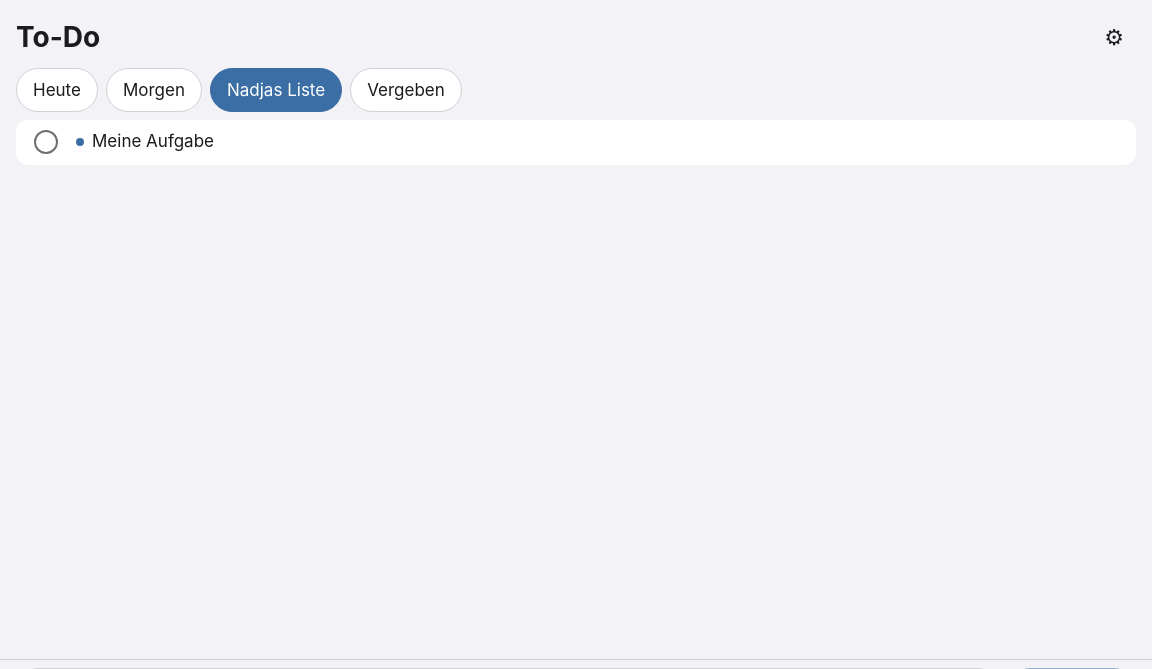
Test: App with two people › shows the handed-over task as belonging to the other person
What coordinates should you click on to do the following:
click the tab "Vergeben"
I would click on:
 (406, 90)
Its box is [350,68,462,112].
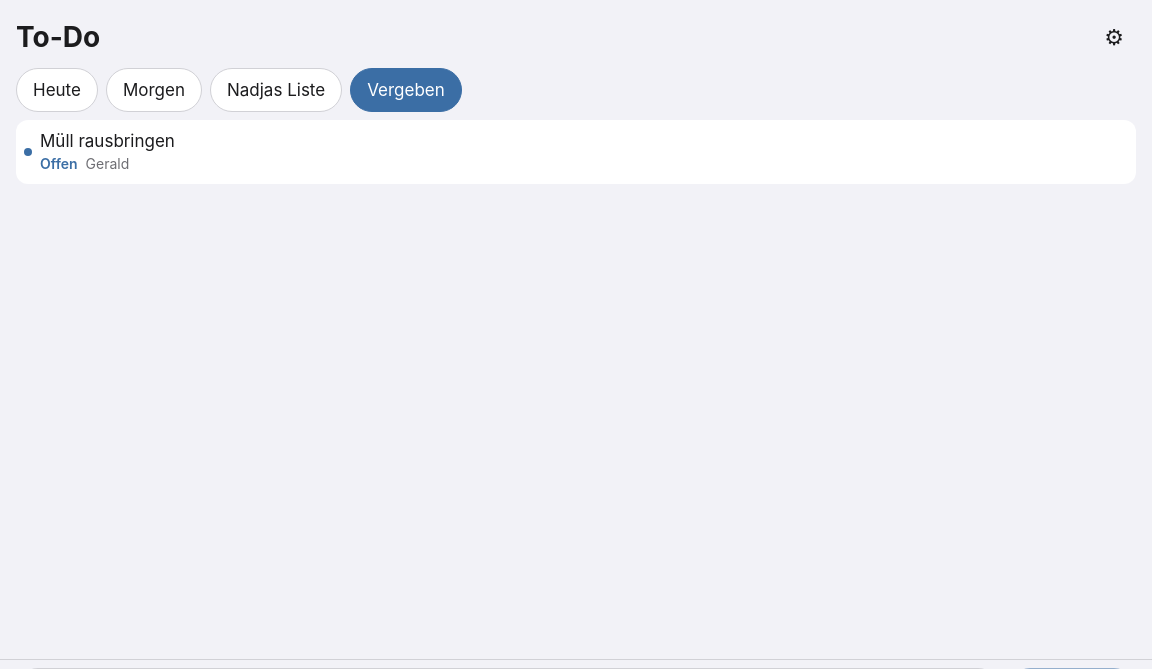
What coordinates should you click on to do the following:
click the button "Müll rausbringen Offen Gerald"
I would click on:
 (107, 141)
Its box is [40,120,1136,184].
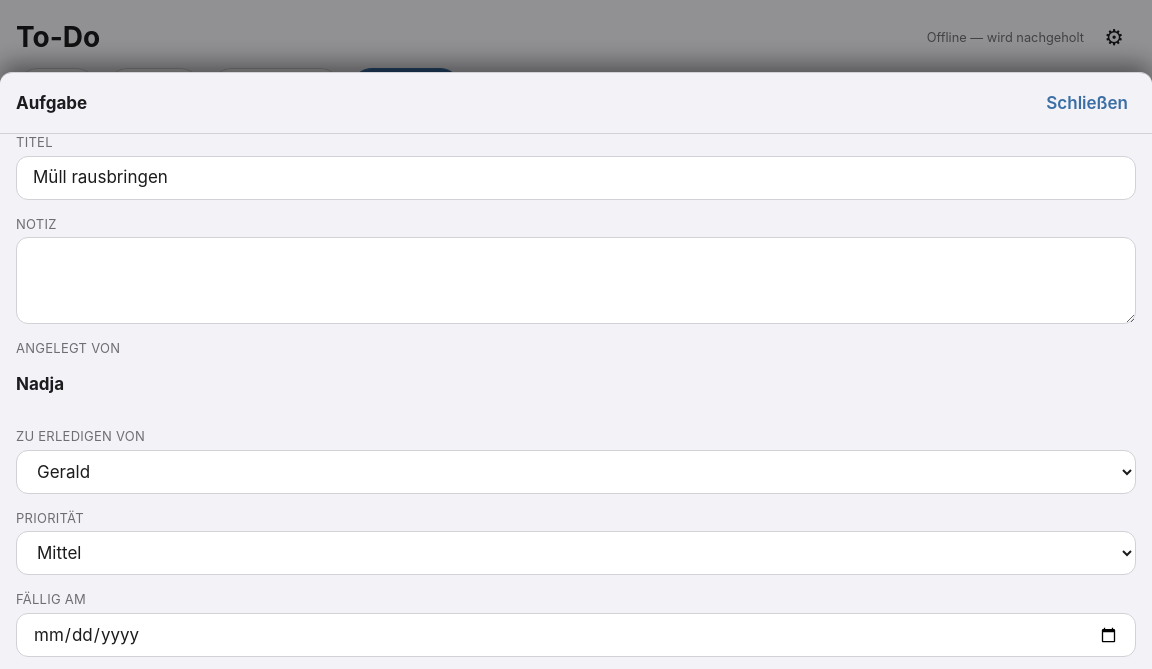
Expected: the dropdown labelled "Zu erledigen von" shows "Gerald", [16,450,1136,494]
